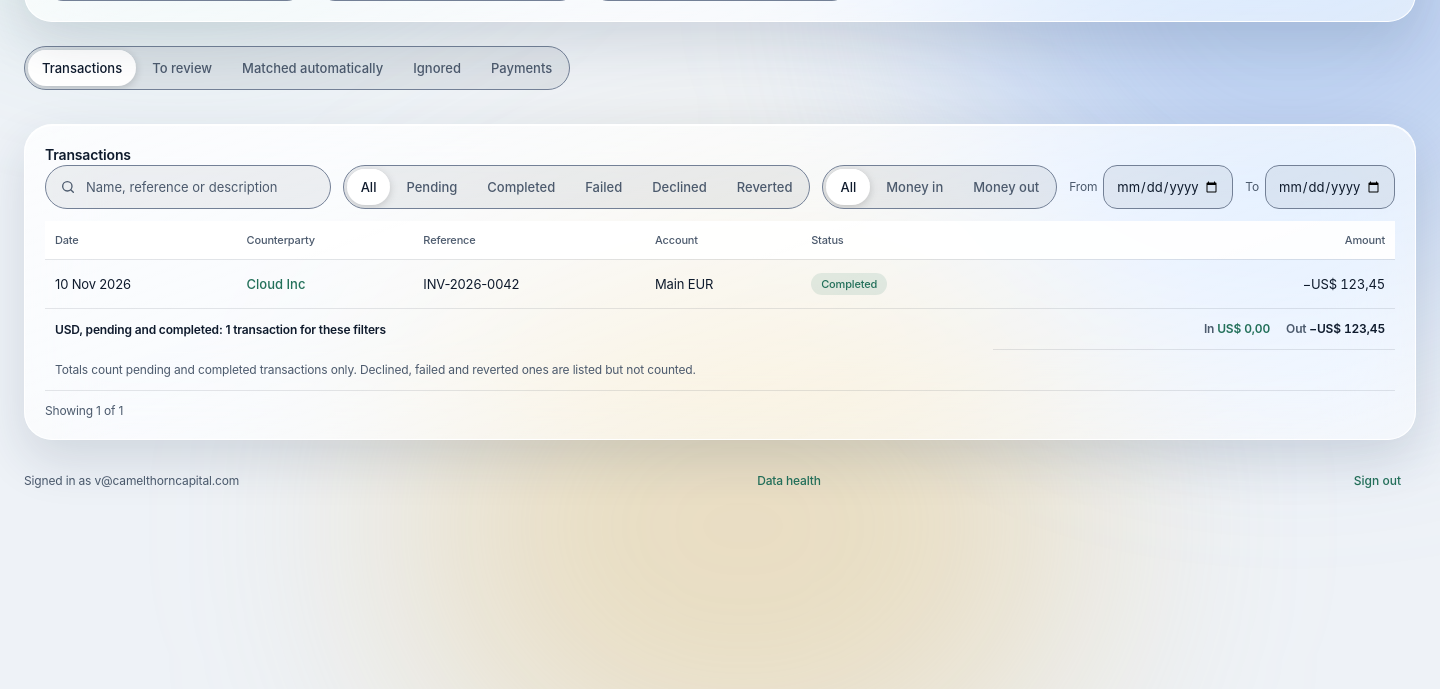
Scenario: Bank: total at today's ECB rates and the transaction sheet › shows the euro equivalent in the transaction sheet with the today's-rate caveat
(page scrolled)
Click the button "Cloud Inc".
click(276, 284)  # box top-left (246, 272), bottom-right (305, 296)
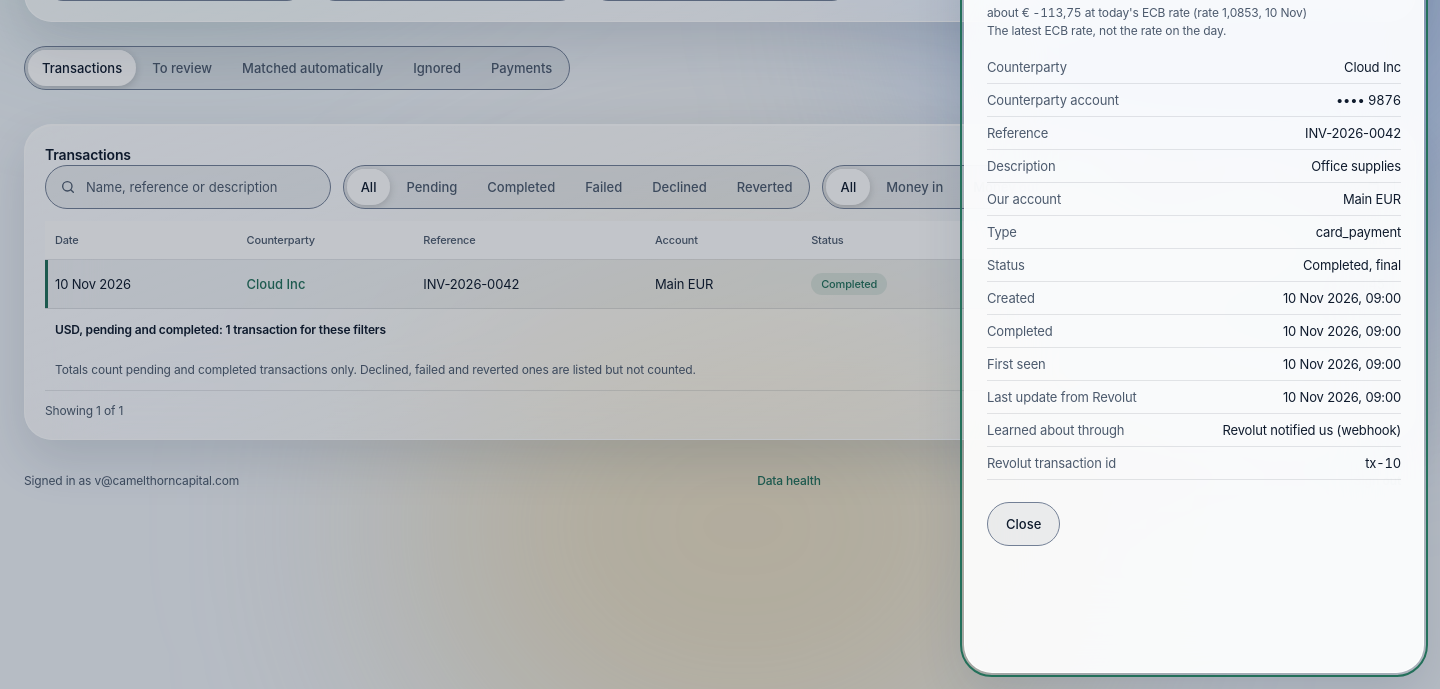
Result: the dialog shows "The latest ECB rate, not the rate on the day." at top-left (987, 23), bottom-right (1226, 38)
